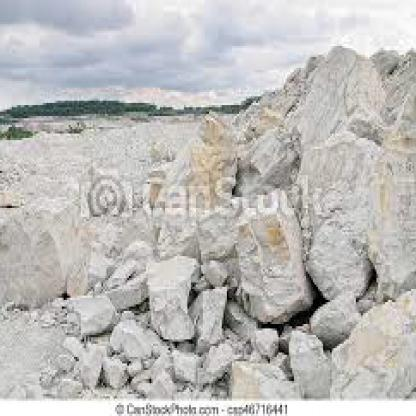Sedimentary_Chalk: (325, 136, 412, 269), (247, 206, 313, 311), (296, 333, 340, 394), (160, 269, 196, 337), (72, 300, 114, 328)
